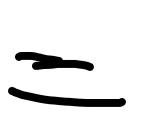eqv: (8, 52, 126, 108)
